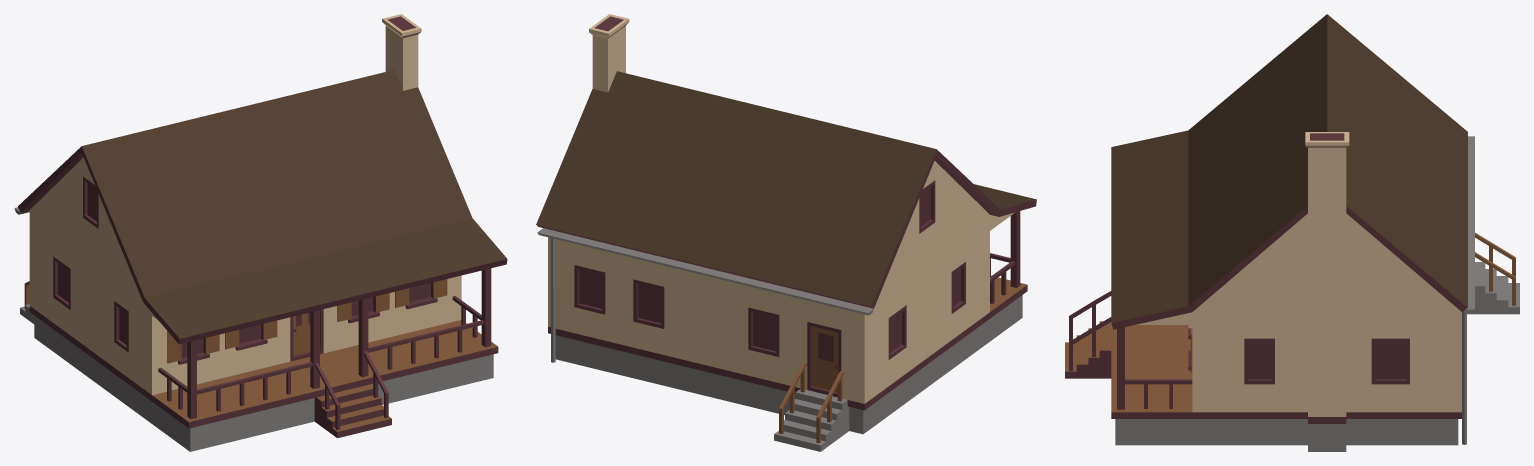
Rendered from building-house-family-small.fbx.
3 renders of one model, left to right at view 1: azimuth 30°, elevation 25°; view 2: azimuth 150°, elevation 25°; view 3: azimuth 270°, elevation 25°, orthographic. The views are drawn at different scales.
Parts seen in each view (by area): view 1: building-house-family-small; view 2: building-house-family-small; view 3: building-house-family-small.
Boxes of the visible parts, x1,y1,x2,y2 form: building-house-family-small: (14,14,507,451); building-house-family-small: (536,14,1036,451); building-house-family-small: (1065,14,1519,451).
Bounding box in the file's own units: 10.87 × 8.9 × 11.8.
